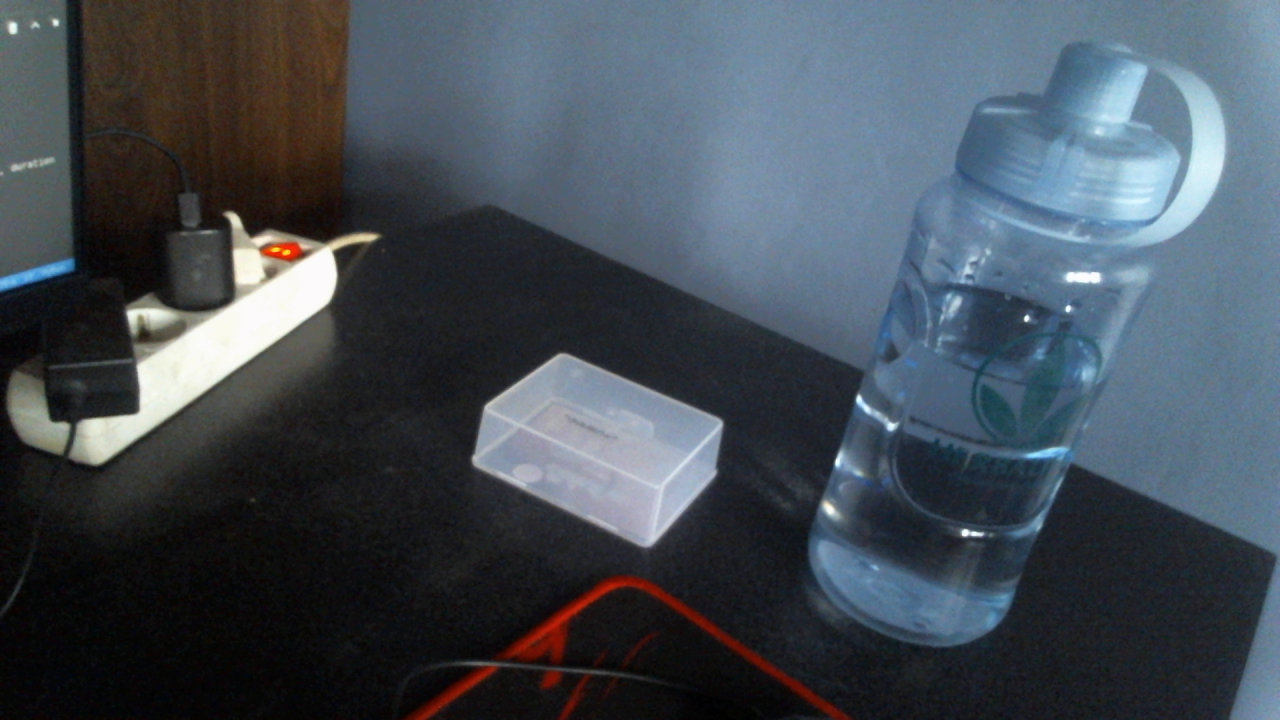Selection: (438, 318, 762, 570)
